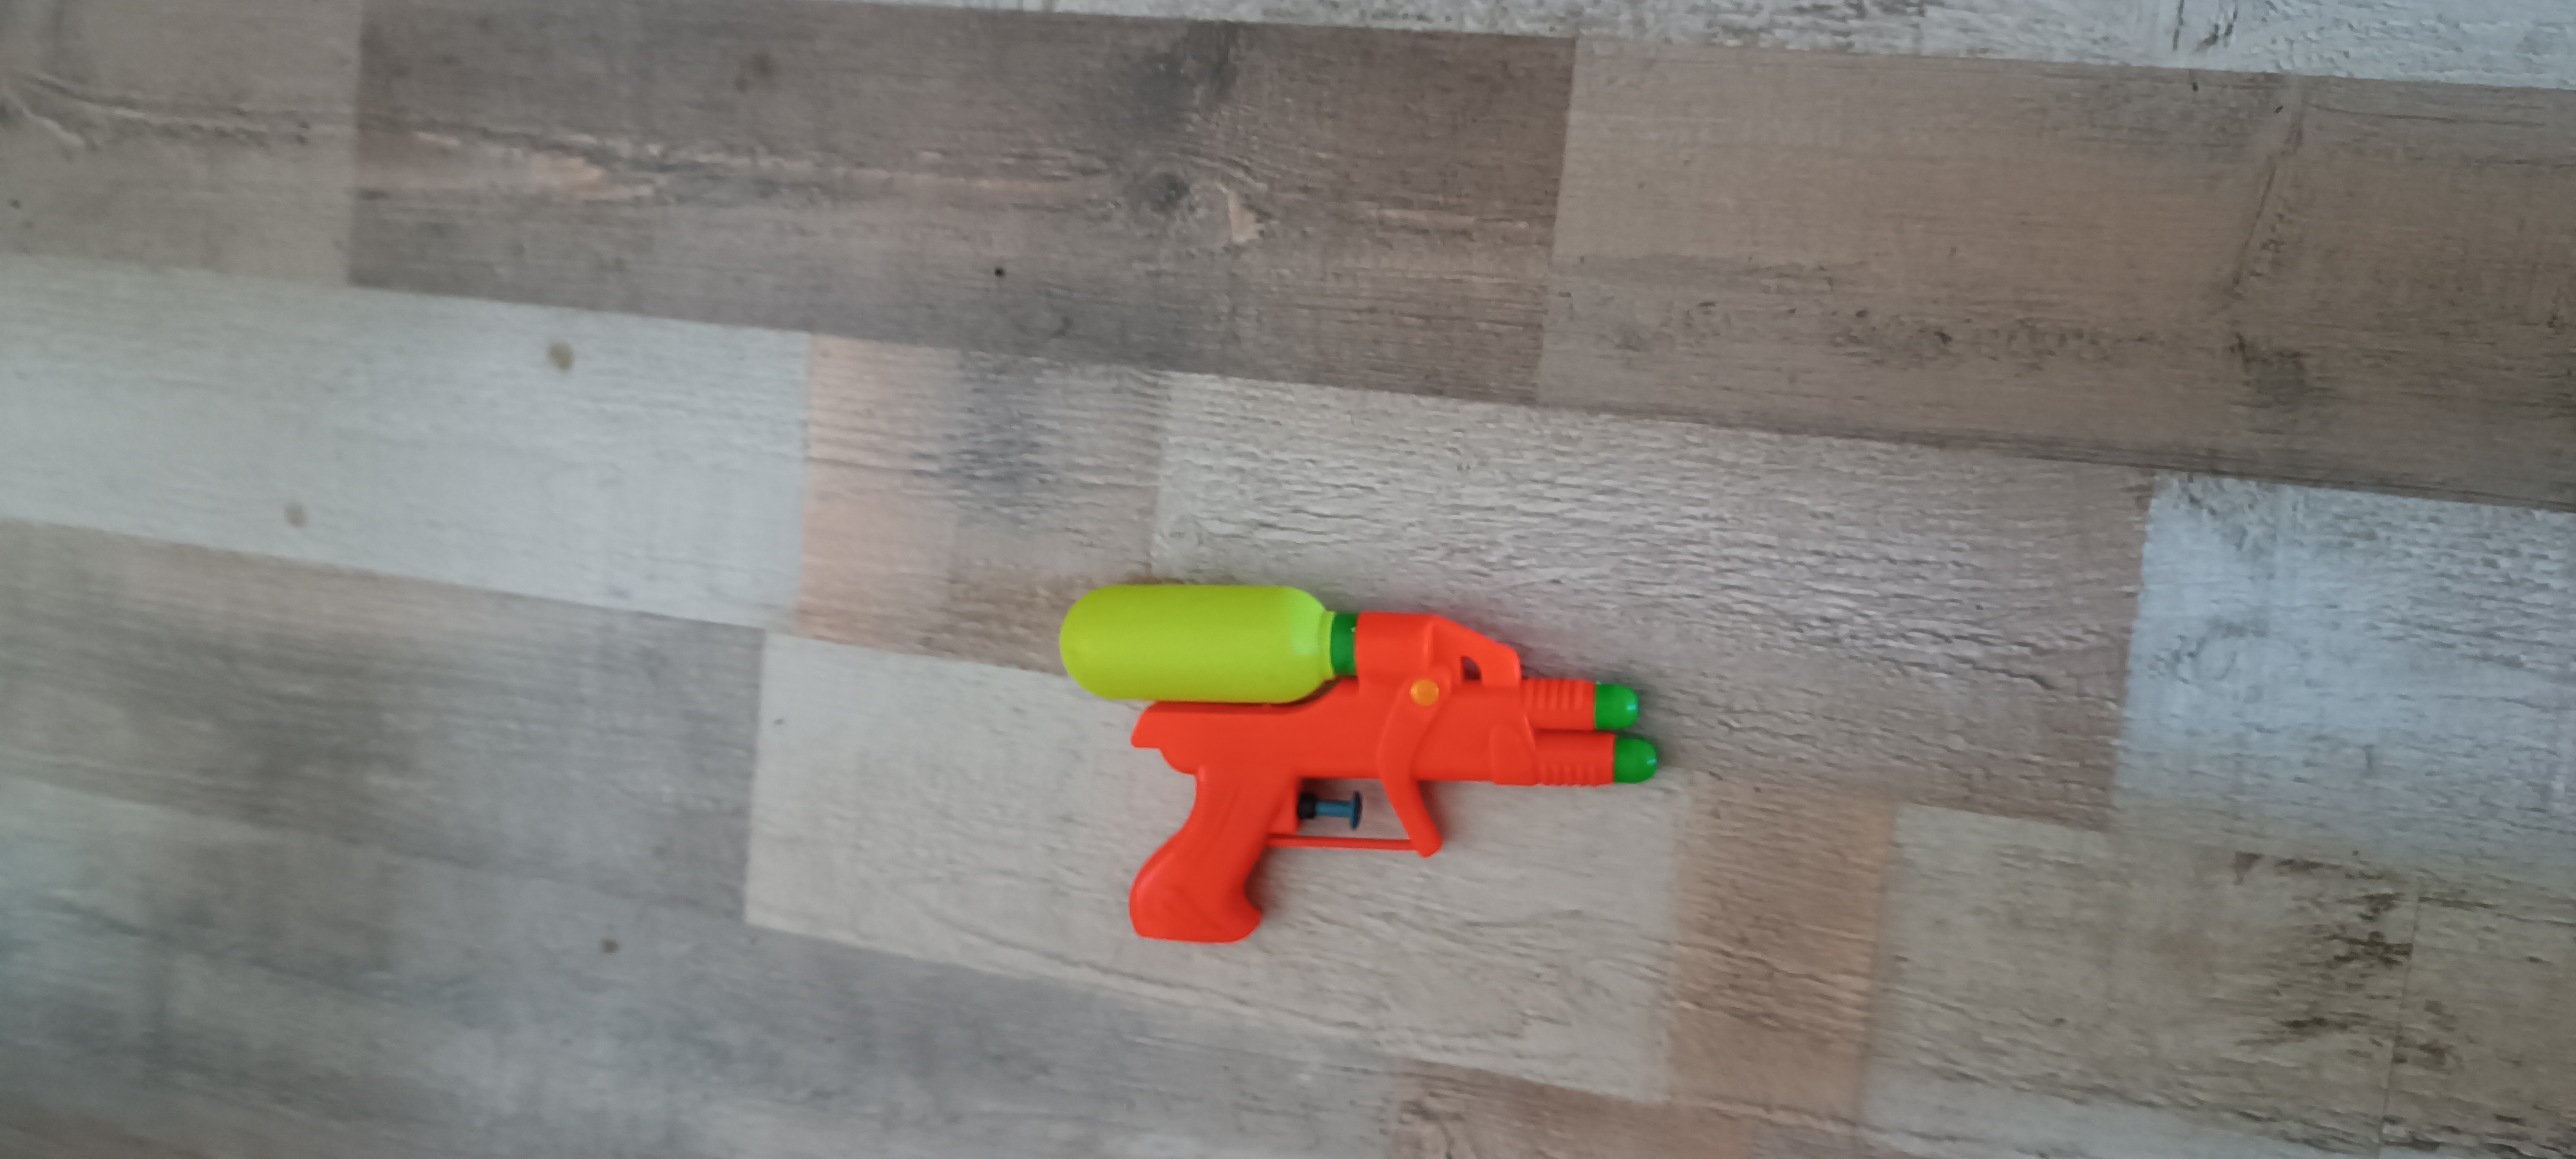Water Gun: (1058, 581, 1659, 949)
